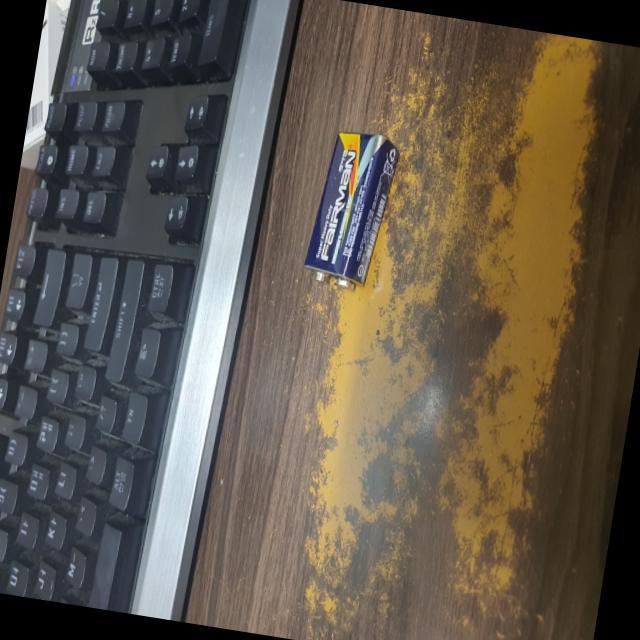battery-etc-etc: (296, 118, 408, 298)
